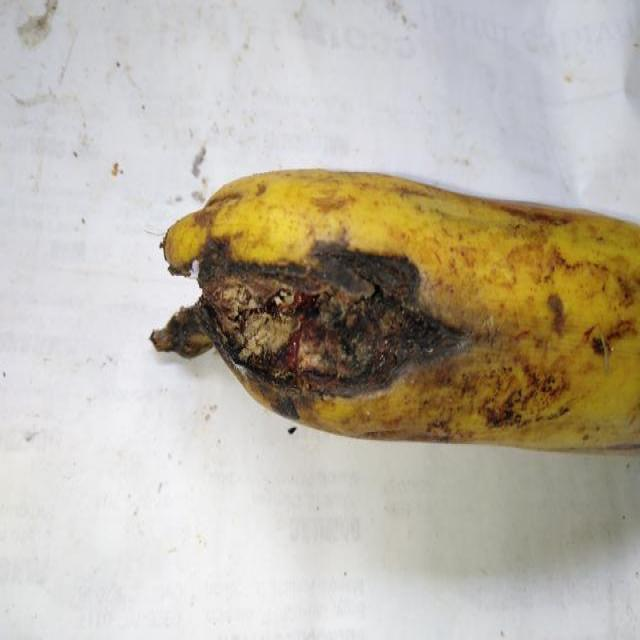Podre: (165, 153, 640, 458)
